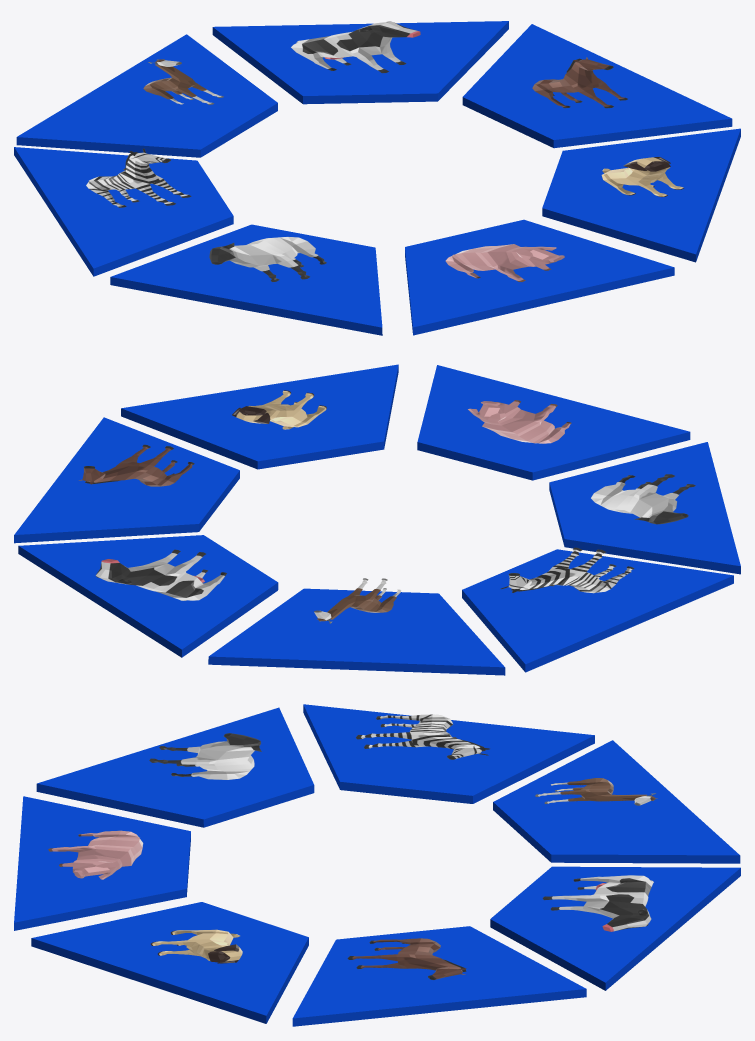
File: Animalring.glb
3 views of the same model, one above another, from view 1: azimuth 30°, elevation 25°; view 2: azimuth 150°, elevation 25°; view 3: azimuth 270°, elevation 25° (orthographic).
Visible parts, largest first — view 1: Circle.043, Circle.044, Circle.045, Circle.046, Circle.047, Circle.048, Circle.042, cow, sheep, pig, zebra, horse (+2 smaller); view 2: Circle.043, Circle.045, Circle.048, Circle.044, Circle.046, Circle.042, Circle.047, cow, sheep, pig, zebra, horse (+2 smaller); view 3: Circle.044, Circle.043, Circle.045, Circle.048, Circle.047, Circle.042, Circle.046, cow, sheep, pig, zebra, horse (+2 smaller).
Part boxes in pixels (x1,y1,x2,y2): Circle.043: (16,34,277,157); Circle.044: (462,24,732,148); Circle.045: (542,128,740,262); Circle.046: (405,219,674,335); Circle.047: (110,224,382,335); Circle.048: (14,147,233,276); Circle.042: (212,21,508,104); cow: (291,21,420,73); sheep: (209,237,326,281); pig: (445,244,564,281); zebra: (86,148,191,207); horse: (532,57,627,108); Circle.043: (208,588,505,675); Circle.045: (121,364,398,469); Circle.048: (462,549,733,672); Circle.044: (14,417,239,543); Circle.046: (417,365,690,480); Circle.042: (18,535,278,657); Circle.047: (549,442,740,574); cow: (95,549,226,600); sheep: (591,474,695,524); pig: (468,400,571,443); zebra: (500,547,634,593); horse: (78,444,194,486); Circle.044: (292,926,586,1026); Circle.043: (493,740,740,863); Circle.045: (31,902,308,1023); Circle.048: (303,704,594,803); Circle.047: (36,707,314,827); Circle.042: (490,866,740,990); Circle.046: (14,796,190,930); cow: (542,875,653,931); sheep: (149,733,261,779); pig: (48,830,143,879); zebra: (356,714,490,759); horse: (347,938,466,979).
Size of the model in its own units: 4.69 by 0.2385 by 4.6.
Materials: 8 (7 with a texture image).
